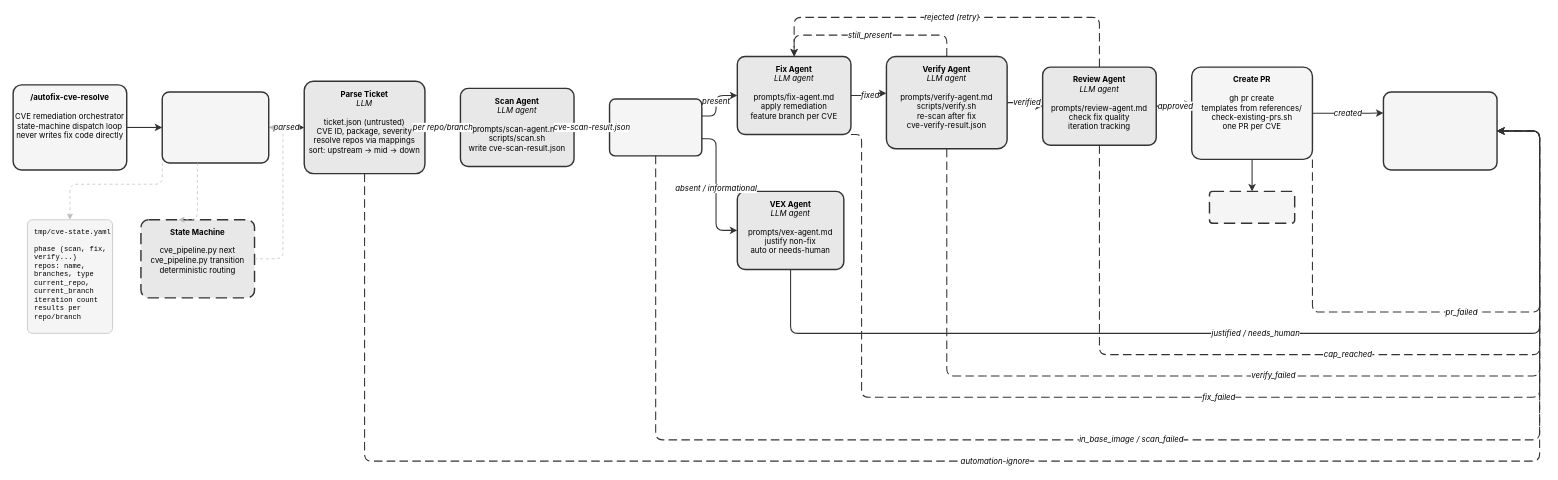
Image size: 1558x480. Some labels were removed from this diagram. Here are the shapes that lost their labels. From the top down, the box of each, then its label:
(161, 91, 269, 163): Init Pipeline cve_pipeline.py init create state file tmp/cve-state.yaml
(608, 98, 702, 156): Route read scan verdict select next phase
(1382, 91, 1497, 170): Finalize aggregate all results .autofix-verdict.json verdict-schema.md
(1208, 190, 1295, 224): GitHub CLI
